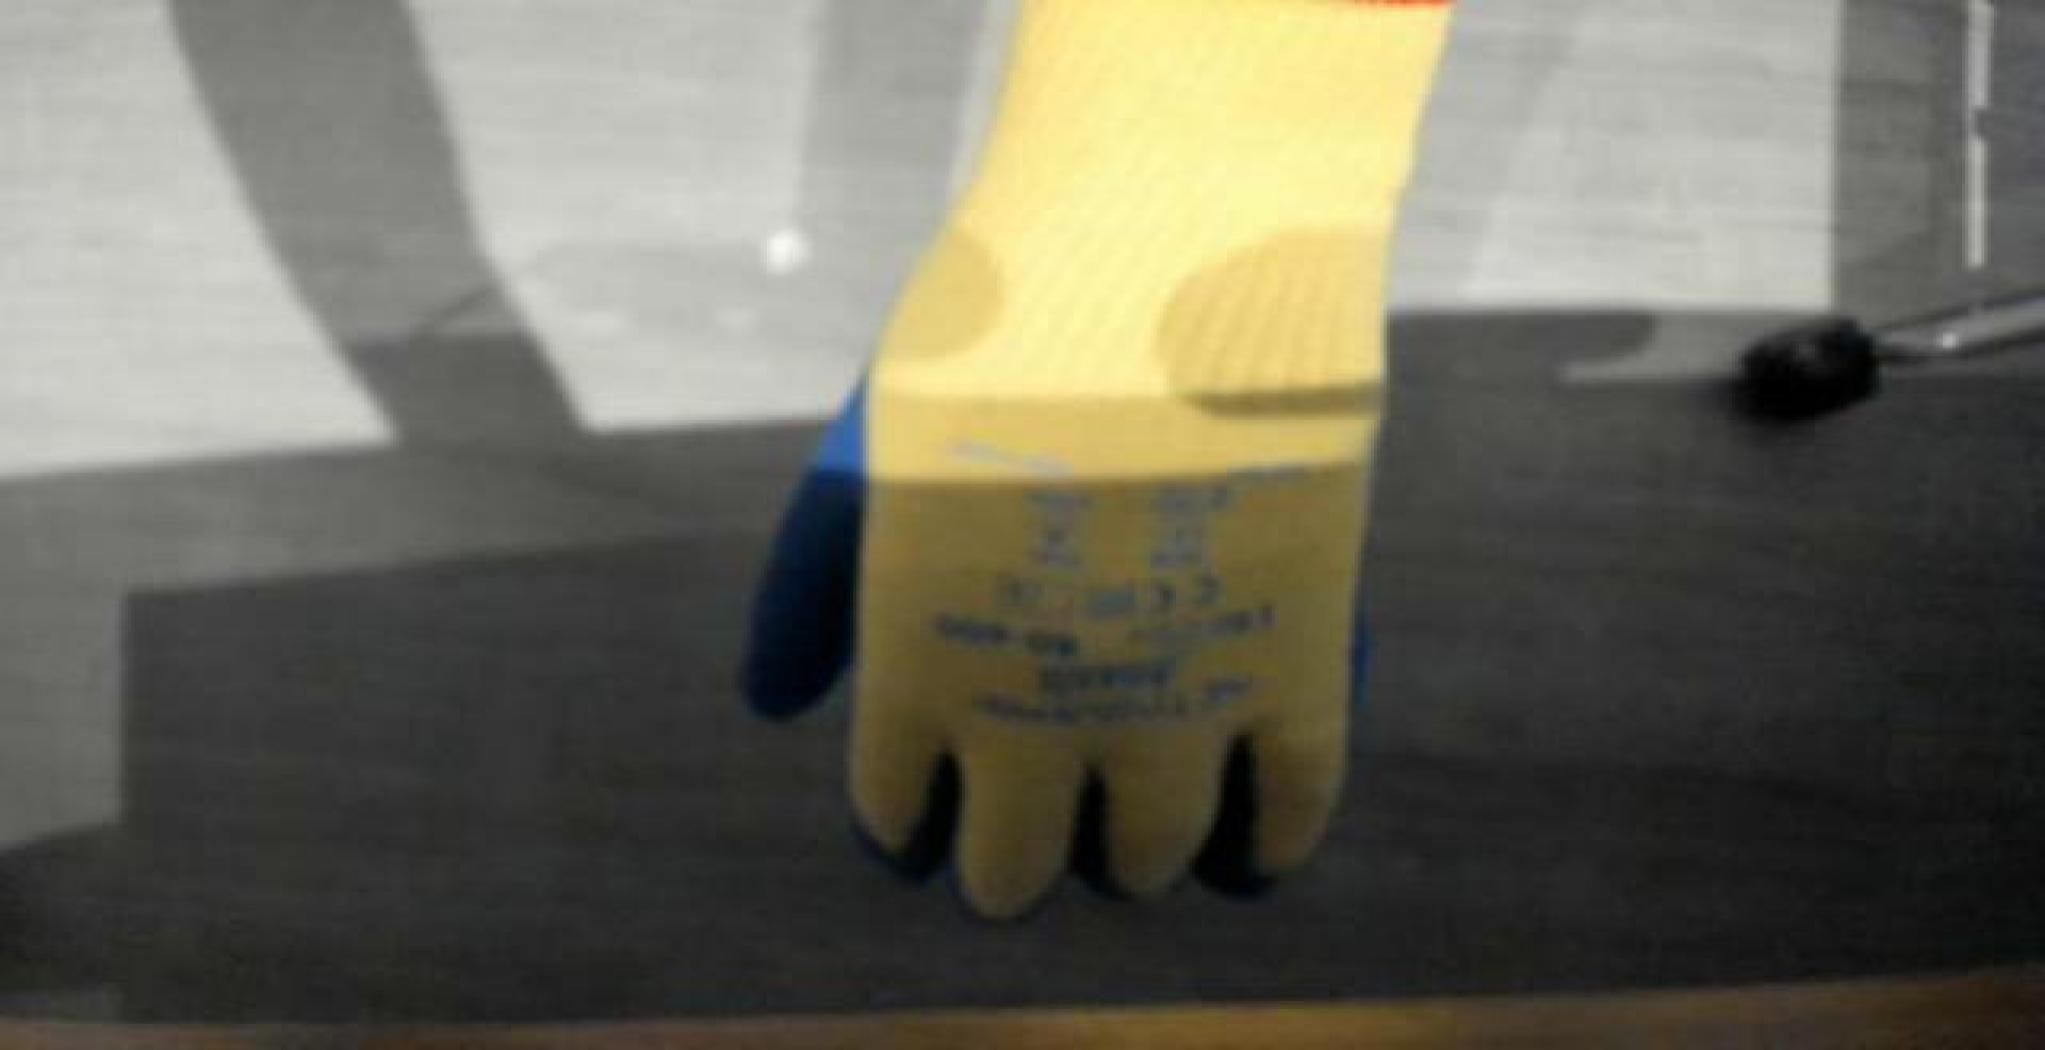gloved: (731, 0, 1466, 920)
